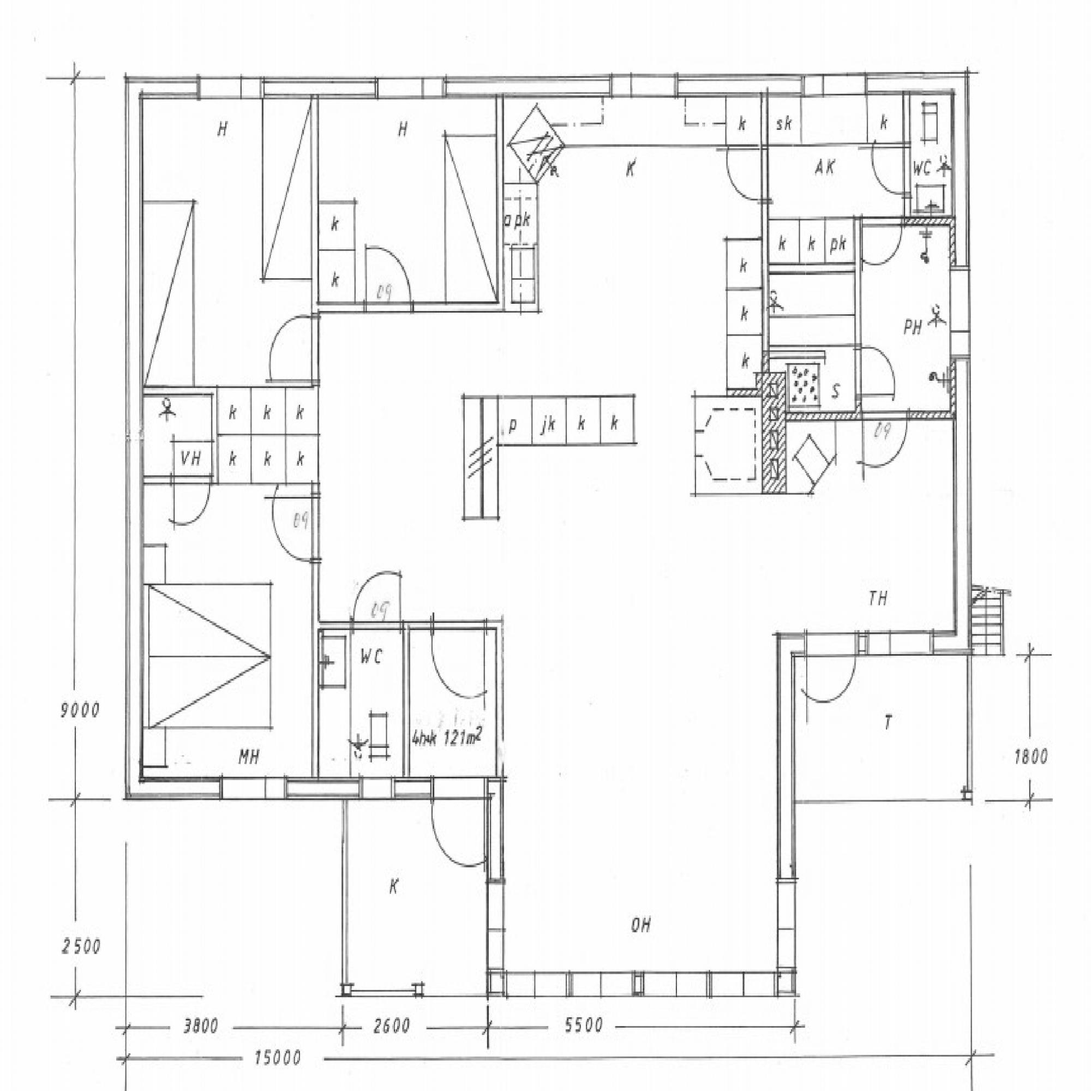wall: (125, 75, 969, 96), (125, 75, 142, 801), (125, 777, 503, 801), (486, 971, 794, 995), (778, 630, 795, 995), (778, 631, 969, 655), (952, 421, 969, 654), (486, 777, 503, 995), (951, 225, 969, 421), (952, 75, 969, 225), (311, 483, 319, 801), (311, 76, 319, 387), (761, 76, 768, 421), (311, 303, 503, 313), (311, 620, 503, 630), (496, 76, 503, 312), (496, 620, 503, 801), (403, 620, 410, 801), (854, 217, 860, 421), (902, 75, 909, 225), (860, 412, 969, 421), (855, 217, 969, 225), (761, 412, 860, 421), (761, 265, 860, 274), (125, 387, 219, 396), (125, 475, 219, 483), (212, 387, 219, 483), (727, 389, 768, 396)
